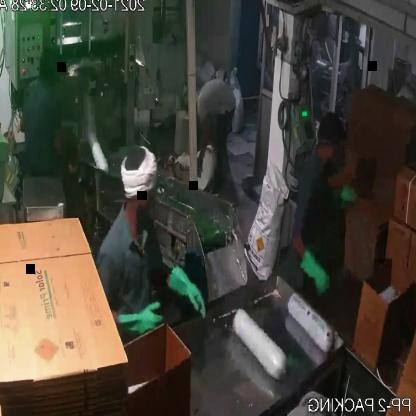glove: (166, 255, 212, 327), (114, 298, 169, 348), (293, 243, 336, 297), (327, 174, 363, 223)
no_glove: (190, 107, 215, 180)
